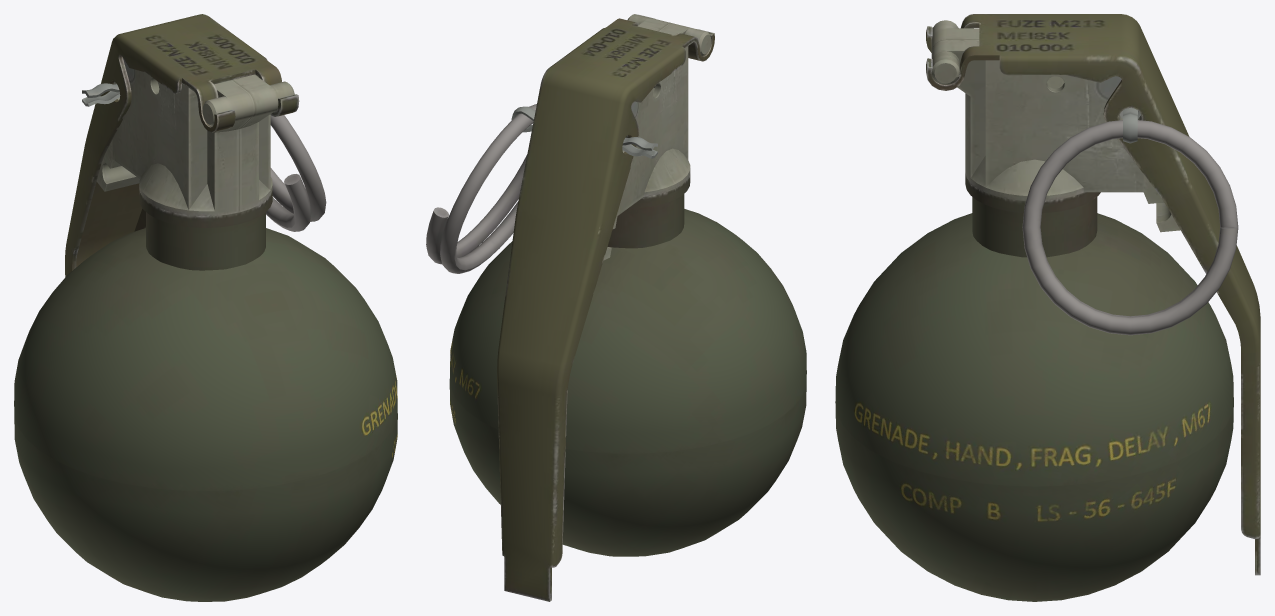
Rendered from item_nade.glb.
The picture shows the model from 3 angles, left to right: view 1: azimuth 30°, elevation 25°; view 2: azimuth 150°, elevation 25°; view 3: azimuth 270°, elevation 25°; orthographic projection. The views are drawn at different scales.
Visible parts, largest first — view 1: m_m67; view 2: m_m67; view 3: m_m67.
Boxes of the visible parts, box(x1,y1,x2,y2) form: m_m67: box(14, 14, 397, 601); m_m67: box(426, 14, 806, 601); m_m67: box(835, 14, 1260, 601).
Bounding box in the file's own units: 0.1318 × 0.2 × 0.1405.
Materials: 1 (1 with a texture image).
